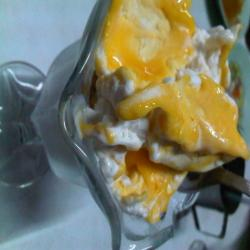icecream: (91, 3, 241, 230)
